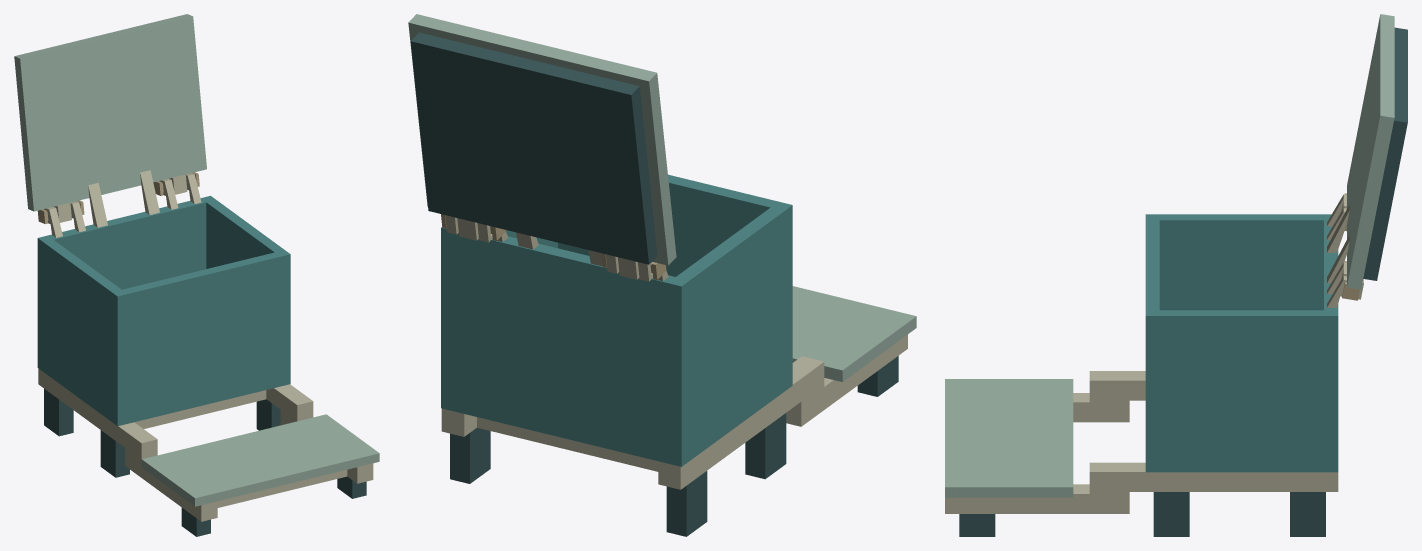
3 renders of one model, left to right at view 1: azimuth 30°, elevation 25°; view 2: azimuth 150°, elevation 25°; view 3: azimuth 270°, elevation 25°, orthographic. The views are drawn at different scales.
Parts seen in each view (by area): view 1: WholeDeepSeatboxShell, WholeFixed100DegreeLid, WholeLowFrontFootplate, ContinuousSteppedSideBeam_Left, ContinuousSteppedSideBeam_Right, WholeCrossmember_2, CompleteShortFoot_Left_3, WholeCrossmember_1, CompleteShortFoot_Left_2, CompleteShortFoot_Right_2, WholeFixedAngleStop_-0.09, WholeFixedAngleStop_0.09 (+2 smaller); view 2: WholeDeepSeatboxShell, WholeThickSeatCushion, WholeFixed100DegreeLid, WholeLowFrontFootplate, ContinuousSteppedSideBeam_Left, CompleteShortFoot_Left_3, WholeCrossmember_3, CompleteShortFoot_Left_2, CompleteShortFoot_Right_3, CompleteShortFoot_Left_1, ContinuousSteppedSideBeam_Right; view 3: WholeDeepSeatboxShell, WholeLowFrontFootplate, ContinuousSteppedSideBeam_Right, WholeFixed100DegreeLid, WholeThickSeatCushion, ContinuousSteppedSideBeam_Left, CompleteShortFoot_Right_2, CompleteShortFoot_Right_3, CompleteShortFoot_Right_1.
Boxes of the visible parts, <box> form: WholeDeepSeatboxShell: <box>37,195,290,426</box>; WholeFixed100DegreeLid: <box>14,14,206,211</box>; WholeLowFrontFootplate: <box>141,414,379,506</box>; ContinuousSteppedSideBeam_Left: <box>38,368,217,521</box>; ContinuousSteppedSideBeam_Right: <box>266,384,373,483</box>; WholeCrossmember_2: <box>134,390,266,428</box>; CompleteShortFoot_Left_3: <box>44,389,73,436</box>; WholeCrossmember_1: <box>217,470,347,507</box>; CompleteShortFoot_Left_2: <box>100,430,129,477</box>; CompleteShortFoot_Right_2: <box>256,399,280,430</box>; WholeFixedAngleStop_-0.09: <box>88,183,107,227</box>; WholeFixedAngleStop_0.09: <box>140,170,159,214</box>; WholeDeepSeatboxShell: <box>441,174,792,466</box>; WholeThickSeatCushion: <box>410,32,657,264</box>; WholeFixed100DegreeLid: <box>408,14,676,265</box>; WholeLowFrontFootplate: <box>792,286,916,381</box>; ContinuousSteppedSideBeam_Left: <box>658,334,907,489</box>; CompleteShortFoot_Left_3: <box>666,471,707,536</box>; WholeCrossmember_3: <box>477,417,658,471</box>; CompleteShortFoot_Left_2: <box>745,413,786,479</box>; CompleteShortFoot_Right_3: <box>450,428,490,483</box>; CompleteShortFoot_Left_1: <box>857,356,898,396</box>; ContinuousSteppedSideBeam_Right: <box>441,408,476,436</box>; WholeDeepSeatboxShell: <box>1145,214,1338,472</box>; WholeLowFrontFootplate: <box>945,379,1073,497</box>; ContinuousSteppedSideBeam_Right: <box>945,462,1338,513</box>; WholeFixed100DegreeLid: <box>1347,14,1394,289</box>; WholeThickSeatCushion: <box>1363,27,1407,280</box>; ContinuousSteppedSideBeam_Left: <box>1073,371,1145,422</box>; CompleteShortFoot_Right_2: <box>1153,492,1189,536</box>; CompleteShortFoot_Right_3: <box>1290,492,1325,536</box>; CompleteShortFoot_Right_1: <box>959,514,995,536</box>.
Size of the model in its own units: 0.64 by 1.16 by 1.15.
